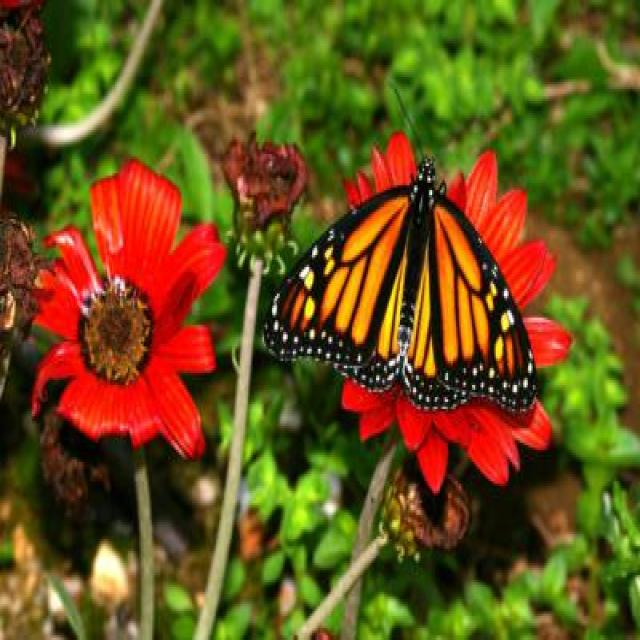body: (400, 157, 436, 350)
insect: (264, 78, 538, 412)
wings: (260, 178, 413, 392), (406, 196, 536, 413)
